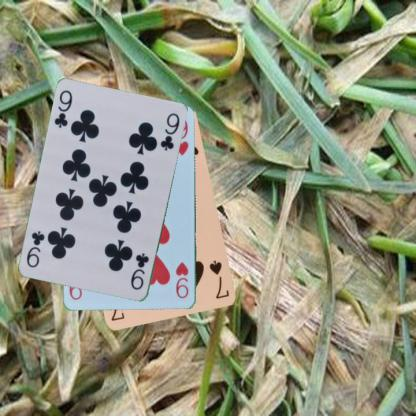7s: (207, 258, 230, 300)
9c: (128, 251, 151, 292), (52, 88, 74, 129)
9h: (173, 259, 190, 300)
